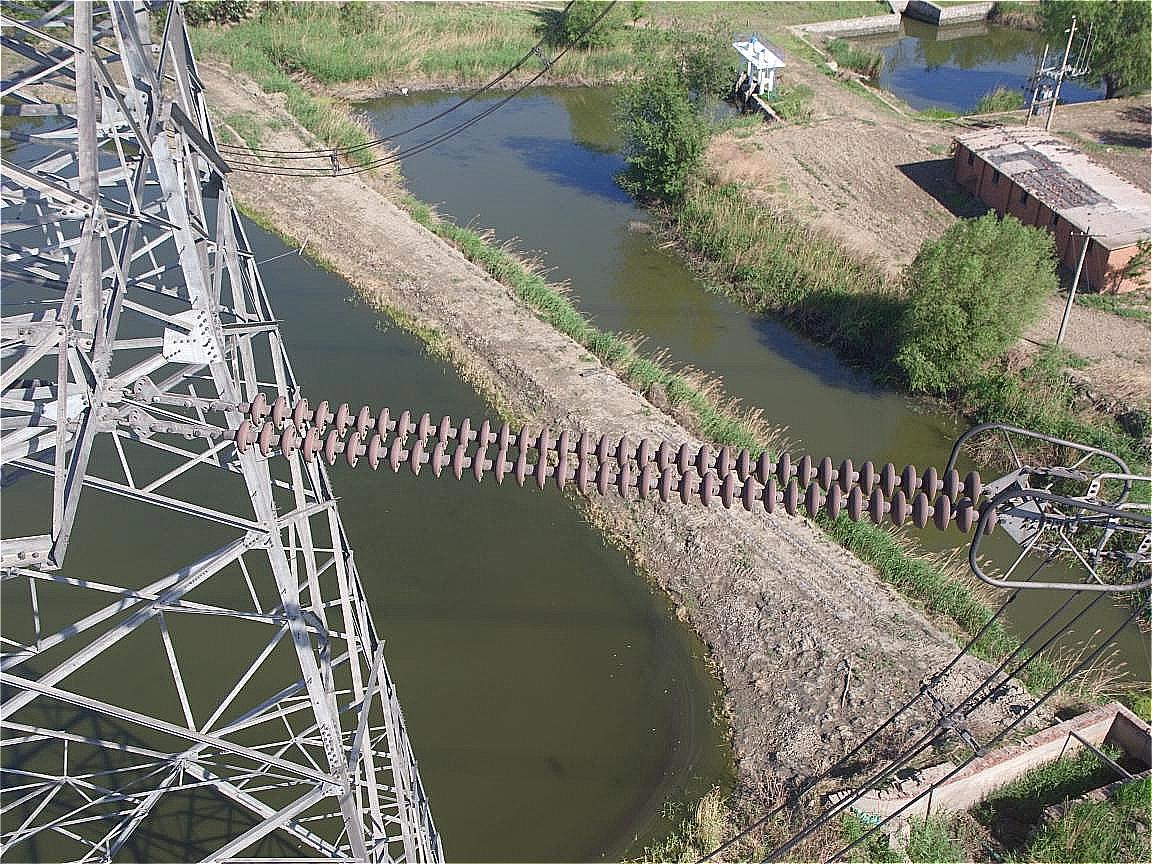insultor1: (170, 379, 1035, 558)
